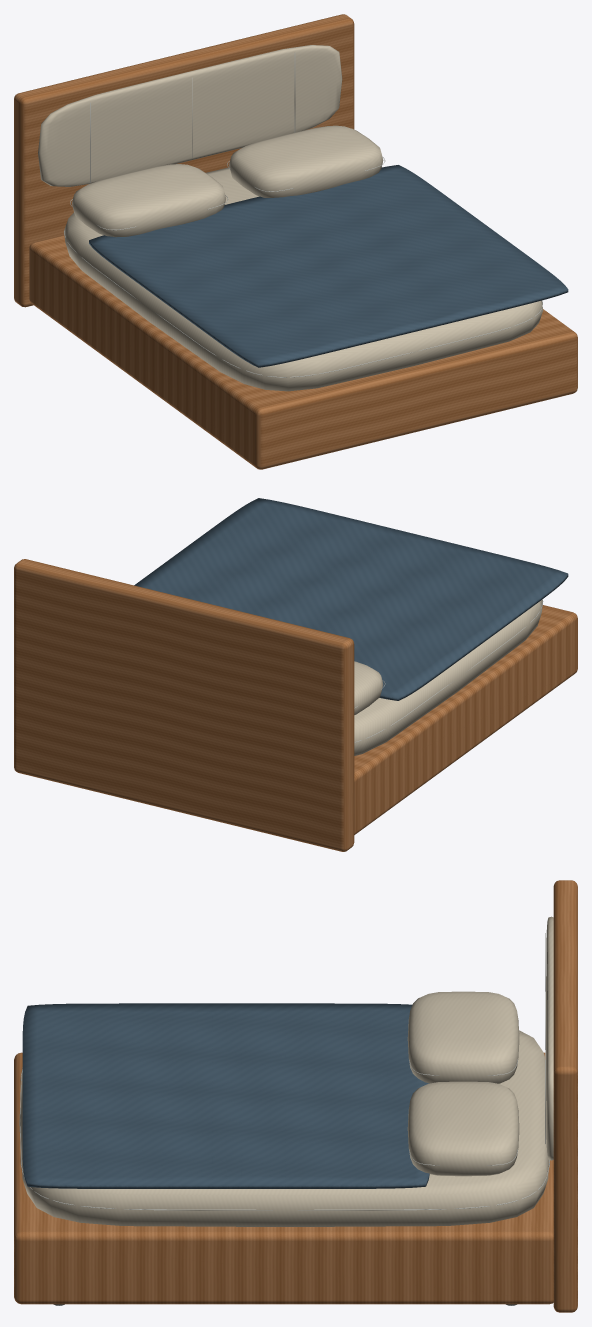
File: bed_v06a.glb
The picture shows the model from 3 angles, top to bottom: view 1: azimuth 30°, elevation 25°; view 2: azimuth 150°, elevation 25°; view 3: azimuth 270°, elevation 25°; orthographic projection. The views are drawn at different scales.
Parts seen in each view (by area): view 1: VIS_BedLinenVolumes, VIS_BedWoodStructure, VIS_BedFoldedCover, VIS_BedFineSeams; view 2: VIS_BedWoodStructure, VIS_BedFoldedCover, VIS_BedLinenVolumes; view 3: VIS_BedFoldedCover, VIS_BedWoodStructure, VIS_BedLinenVolumes, VIS_BedFineSeams.
Part boxes in pixels (x1,y1,x2,y2): VIS_BedLinenVolumes: [38, 45, 543, 391]; VIS_BedWoodStructure: [14, 14, 577, 469]; VIS_BedFoldedCover: [89, 165, 568, 367]; VIS_BedFineSeams: [64, 53, 542, 377]; VIS_BedWoodStructure: [14, 559, 577, 851]; VIS_BedFoldedCover: [134, 498, 568, 700]; VIS_BedLinenVolumes: [354, 599, 543, 755]; VIS_BedFoldedCover: [22, 1003, 429, 1188]; VIS_BedWoodStructure: [14, 880, 577, 1312]; VIS_BedLinenVolumes: [19, 916, 553, 1226]; VIS_BedFineSeams: [20, 933, 549, 1210].
Bounding box in the file's own units: 1.7 × 1.04 × 2.12.
Materials: 5 (3 with a texture image).
